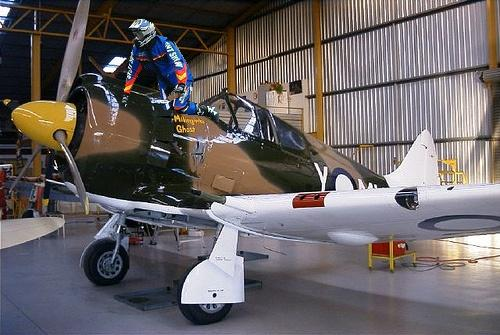tampered: (122, 20, 219, 124)
